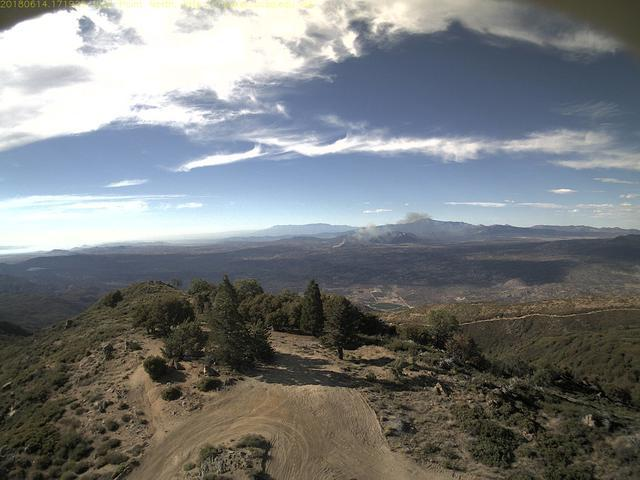smoke: (332, 209, 441, 252)
